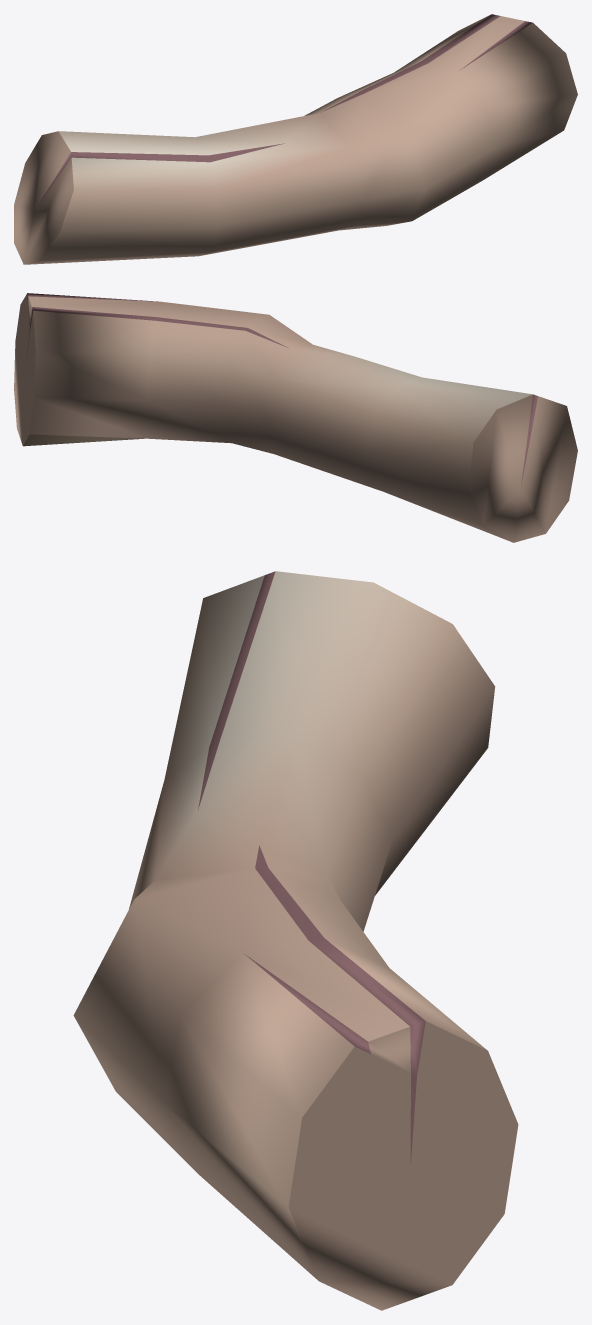
The model's file is FireWood_0.glb.
3 renders of one model, top to bottom at view 1: azimuth 30°, elevation 25°; view 2: azimuth 150°, elevation 25°; view 3: azimuth 270°, elevation 25°, orthographic. The views are drawn at different scales.
Visible parts, largest first — view 1: FireWood; view 2: FireWood; view 3: FireWood.
Boxes of the visible parts, x1,y1,x2,y2 form: FireWood: (14, 14, 577, 264); FireWood: (14, 293, 577, 542); FireWood: (73, 571, 518, 1310).
Size of the model in its own units: 0.6353 by 0.1487 by 0.2253.
